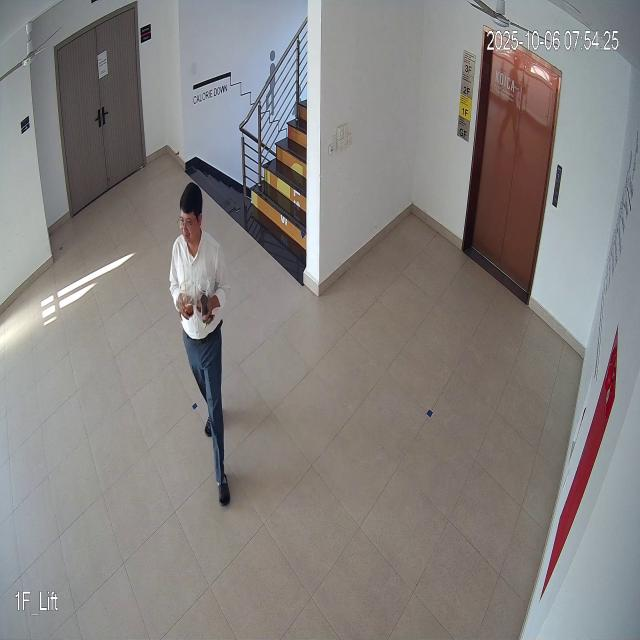face: (174, 176, 207, 256)
